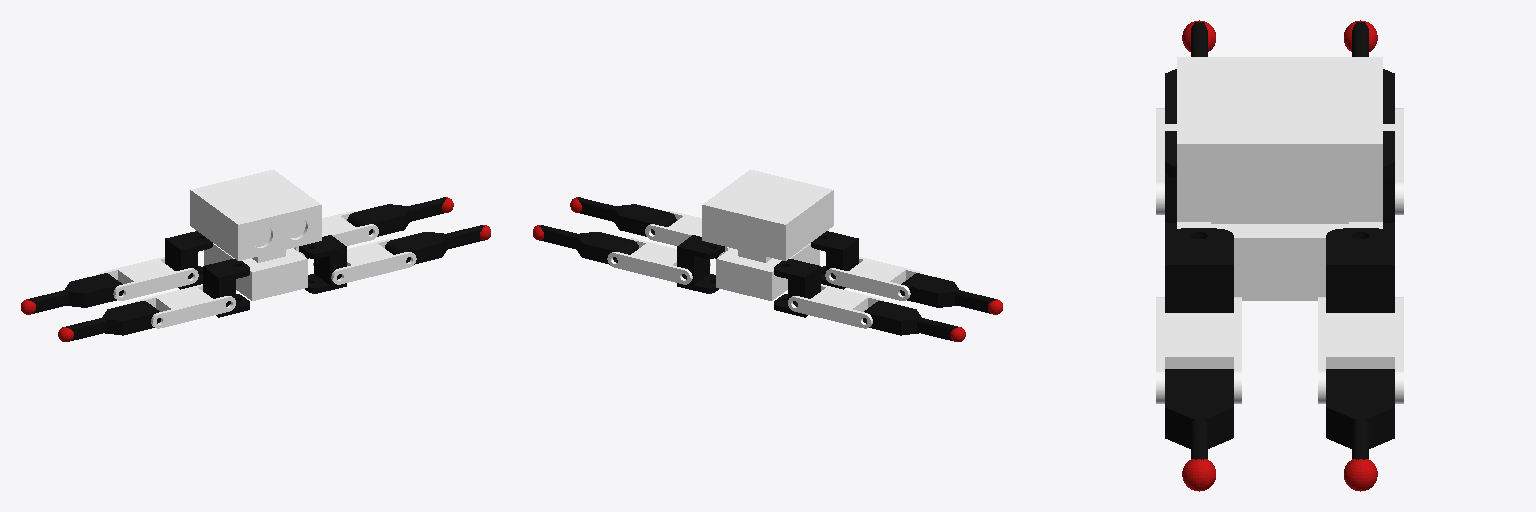
robot.urdf — quadruped_spider:
<?xml version="1.0"?>
<robot name="quadruped_spider">

  <!-- Material Definitions -->
  <material name="white">
    <color rgba="1.0 1.0 1.0 1.0"/>
  </material>
  <material name="black">
    <color rgba="0.1 0.1 0.1 1.0"/>
  </material>
  <material name="dark_gray">
    <color rgba="0.2 0.2 0.2 1.0"/>
  </material>
  <material name="blue">
    <color rgba="0.1 0.4 0.8 1.0"/>
  </material>
  <material name="orange">
    <color rgba="0.9 0.4 0.1 1.0"/>
  </material>
  <material name="red">
    <color rgba="0.8 0.1 0.1 1.0"/>
  </material>

  <!-- Main Body (Trunk) - Mesh dari FreeCAD (main_body.stl) -->
  <link name="main_body">
    <inertial>
      <origin xyz="0 0 0" rpy="0 0 0"/>
      <mass value="1.4"/>
      <inertia ixx="0.0058" ixy="0" ixz="0" iyy="0.0058" iyz="0" izz="0.0093"/>
    </inertial>
    <visual>
      <origin xyz="0 0 0" rpy="0 0 0"/>
      <geometry>
        <mesh filename="meshes/main_body.stl" scale="0.001 0.001 0.001"/>
      </geometry>
      <material name="white"/>
    </visual>
    <collision>
      <origin xyz="0 0 0" rpy="0 0 0"/>
      <geometry>
        <mesh filename="meshes/main_body.stl" scale="0.001 0.001 0.001"/>
      </geometry>
    </collision>
  </link>

  <!-- Leg 1: Front-Left (fl) -->
  <link name="fl_coxa">
    <inertial><origin xyz="0.0137 0 -0.005" rpy="0 0 0"/><mass value="0.1"/><inertia ixx="0.000003" ixy="0" ixz="0" iyy="0.000006" iyz="0" izz="0.000006"/></inertial>
    <visual><origin xyz="0.0 0 0" rpy="0 0 0"/><geometry><mesh filename="meshes/coxa.stl" scale="0.001 0.001 0.001"/></geometry><material name="black"/></visual>
    <collision><origin xyz="0.0 0 0" rpy="0 0 0"/><geometry><mesh filename="meshes/coxa.stl" scale="0.001 0.001 0.001"/></geometry></collision>
  </link>
  <joint name="fl_coxa_joint" type="revolute">
    <parent link="main_body"/>
    <child link="fl_coxa"/>
    <!-- Titik Coxa Leg 1: Depan Kiri (+X, -Y) -->
    <origin xyz="0.0525 -0.047 0.020" rpy="0 0 0"/>
    <axis xyz="0 0 1"/>
    <limit lower="-1.0" upper="1.0" effort="5.0" velocity="5.0"/>
    <dynamics damping="0.05" friction="0.01"/>
  </joint>

  <link name="fl_femur">
    <inertial><origin xyz="0.05 0 0" rpy="0 0 0"/><mass value="0.15"/><inertia ixx="0.00001" ixy="0" ixz="0" iyy="0.000125" iyz="0" izz="0.000125"/></inertial>
    <visual><origin xyz="0 0 0" rpy="0 0 0"/><geometry><mesh filename="meshes/femur.stl" scale="0.001 0.001 0.001"/></geometry><material name="white"/></visual>
    <collision><origin xyz="0 0 0" rpy="0 0 0"/><geometry><mesh filename="meshes/femur.stl" scale="0.001 0.001 0.001"/></geometry></collision>
  </link>
  <joint name="fl_femur_joint" type="revolute">
    <parent link="fl_coxa"/>
    <child link="fl_femur"/>
    <origin xyz="0.0275 0 -0.01" rpy="0 0 0"/>
    <axis xyz="0 1 0"/>
    <limit lower="-1.2" upper="1.2" effort="6.0" velocity="5.0"/>
    <dynamics damping="0.05" friction="0.01"/>
  </joint>

  <link name="fl_tibia">
    <inertial><origin xyz="0.06 0 0" rpy="0 0 0"/><mass value="0.1"/><inertia ixx="0.000005" ixy="0" ixz="0" iyy="0.000122" iyz="0" izz="0.000122"/></inertial>
    <visual><origin xyz="0 0 0" rpy="0 0 0"/><geometry><mesh filename="meshes/tibia.stl" scale="0.001 0.001 0.001"/></geometry><material name="black"/></visual>
    <collision><origin xyz="0 0 0" rpy="0 0 0"/><geometry><mesh filename="meshes/tibia.stl" scale="0.001 0.001 0.001"/></geometry></collision>
  </link>
  <joint name="fl_tibia_joint" type="revolute">
    <parent link="fl_femur"/>
    <child link="fl_tibia"/>
    <origin xyz="0.10 0 0.0" rpy="0 0 0"/>
    <axis xyz="0 1 0"/>
    <limit lower="-3.0" upper="3.0" effort="6.0" velocity="5.0"/>
    <dynamics damping="0.05" friction="0.01"/>
  </joint>

  <link name="fl_foot">
    <inertial><mass value="0.02"/><inertia ixx="0.00001" ixy="0" ixz="0" iyy="0.00001" iyz="0" izz="0.00001"/></inertial>
    <visual><geometry><sphere radius="0.01"/></geometry><material name="red"/></visual>
    <collision><geometry><sphere radius="0.01"/></geometry></collision>
  </link>
  <joint name="fl_foot_joint" type="fixed">
    <parent link="fl_tibia"/>
    <child link="fl_foot"/>
    <origin xyz="0.121 0 0.0" rpy="0 0 0"/>
  </joint>

  <!-- Leg 2: Rear-Left (rl) -->
  <link name="rl_coxa">
    <inertial><origin xyz="0.0137 0 -0.005" rpy="0 0 0"/><mass value="0.1"/><inertia ixx="0.000003" ixy="0" ixz="0" iyy="0.000006" iyz="0" izz="0.000006"/></inertial>
    <visual><origin xyz="0.0 0 0" rpy="0 0 0"/><geometry><mesh filename="meshes/coxa.stl" scale="0.001 0.001 0.001"/></geometry><material name="black"/></visual>
    <collision><origin xyz="0.0 0 0" rpy="0 0 0"/><geometry><mesh filename="meshes/coxa.stl" scale="0.001 0.001 0.001"/></geometry></collision>
  </link>
  <joint name="rl_coxa_joint" type="revolute">
    <parent link="main_body"/>
    <child link="rl_coxa"/>
    <!-- Titik Coxa Leg 2: Belakang Kiri (+X, +Y) -->
    <origin xyz="0.0525 0.047 0.020" rpy="0 0 0"/>
    <axis xyz="0 0 1"/>
    <limit lower="-1.0" upper="1.0" effort="5.0" velocity="5.0"/>
    <dynamics damping="0.05" friction="0.01"/>
  </joint>

  <link name="rl_femur">
    <inertial><origin xyz="0.05 0 0" rpy="0 0 0"/><mass value="0.15"/><inertia ixx="0.00001" ixy="0" ixz="0" iyy="0.000125" iyz="0" izz="0.000125"/></inertial>
    <visual><origin xyz="0 0 0" rpy="0 0 0"/><geometry><mesh filename="meshes/femur.stl" scale="0.001 0.001 0.001"/></geometry><material name="white"/></visual>
    <collision><origin xyz="0 0 0" rpy="0 0 0"/><geometry><mesh filename="meshes/femur.stl" scale="0.001 0.001 0.001"/></geometry></collision>
  </link>
  <joint name="rl_femur_joint" type="revolute">
    <parent link="rl_coxa"/>
    <child link="rl_femur"/>
    <origin xyz="0.0275 0 -0.01" rpy="0 0 0"/>
    <axis xyz="0 1 0"/>
    <limit lower="-1.2" upper="1.2" effort="6.0" velocity="5.0"/>
    <dynamics damping="0.05" friction="0.01"/>
  </joint>

  <link name="rl_tibia">
    <inertial><origin xyz="0.06 0 0" rpy="0 0 0"/><mass value="0.1"/><inertia ixx="0.000005" ixy="0" ixz="0" iyy="0.000122" iyz="0" izz="0.000122"/></inertial>
    <visual><origin xyz="0 0 0" rpy="0 0 0"/><geometry><mesh filename="meshes/tibia.stl" scale="0.001 0.001 0.001"/></geometry><material name="black"/></visual>
    <collision><origin xyz="0 0 0" rpy="0 0 0"/><geometry><mesh filename="meshes/tibia.stl" scale="0.001 0.001 0.001"/></geometry></collision>
  </link>
  <joint name="rl_tibia_joint" type="revolute">
    <parent link="rl_femur"/>
    <child link="rl_tibia"/>
    <origin xyz="0.10 0 0.0" rpy="0 0 0"/>
    <axis xyz="0 1 0"/>
    <limit lower="-3.0" upper="3.0" effort="6.0" velocity="5.0"/>
    <dynamics damping="0.05" friction="0.01"/>
  </joint>

  <link name="rl_foot">
    <inertial><mass value="0.02"/><inertia ixx="0.00001" ixy="0" ixz="0" iyy="0.00001" iyz="0" izz="0.00001"/></inertial>
    <visual><geometry><sphere radius="0.01"/></geometry><material name="red"/></visual>
    <collision><geometry><sphere radius="0.01"/></geometry></collision>
  </link>
  <joint name="rl_foot_joint" type="fixed">
    <parent link="rl_tibia"/>
    <child link="rl_foot"/>
    <origin xyz="0.121 0 0.0" rpy="0 0 0"/>
  </joint>

  <!-- Leg 3: Front-Right (fr) -->
  <link name="fr_coxa">
    <inertial><origin xyz="0.0137 0 -0.005" rpy="0 0 0"/><mass value="0.1"/><inertia ixx="0.000003" ixy="0" ixz="0" iyy="0.000006" iyz="0" izz="0.000006"/></inertial>
    <visual><origin xyz="0.0 0 0" rpy="0 0 0"/><geometry><mesh filename="meshes/coxa.stl" scale="0.001 0.001 0.001"/></geometry><material name="black"/></visual>
    <collision><origin xyz="0.0 0 0" rpy="0 0 0"/><geometry><mesh filename="meshes/coxa.stl" scale="0.001 0.001 0.001"/></geometry></collision>
  </link>
  <joint name="fr_coxa_joint" type="revolute">
    <parent link="main_body"/>
    <child link="fr_coxa"/>
    <!-- Titik Coxa Leg 3: Depan Kanan (-X, -Y) -->
    <origin xyz="-0.0525 -0.047 0.020" rpy="0 0 3.14159"/>
    <axis xyz="0 0 1"/>
    <limit lower="-1.0" upper="1.0" effort="5.0" velocity="5.0"/>
    <dynamics damping="0.05" friction="0.01"/>
  </joint>

  <link name="fr_femur">
    <inertial><origin xyz="0.05 0 0" rpy="0 0 0"/><mass value="0.15"/><inertia ixx="0.00001" ixy="0" ixz="0" iyy="0.000125" iyz="0" izz="0.000125"/></inertial>
    <visual><origin xyz="0 0 0" rpy="0 0 0"/><geometry><mesh filename="meshes/femur.stl" scale="0.001 0.001 0.001"/></geometry><material name="white"/></visual>
    <collision><origin xyz="0 0 0" rpy="0 0 0"/><geometry><mesh filename="meshes/femur.stl" scale="0.001 0.001 0.001"/></geometry></collision>
  </link>
  <joint name="fr_femur_joint" type="revolute">
    <parent link="fr_coxa"/>
    <child link="fr_femur"/>
    <origin xyz="0.0275 0 -0.01" rpy="0 0 0"/>
    <axis xyz="0 1 0"/>
    <limit lower="-1.2" upper="1.2" effort="6.0" velocity="5.0"/>
    <dynamics damping="0.05" friction="0.01"/>
  </joint>

  <link name="fr_tibia">
    <inertial><origin xyz="0.06 0 0" rpy="0 0 0"/><mass value="0.1"/><inertia ixx="0.000005" ixy="0" ixz="0" iyy="0.000122" iyz="0" izz="0.000122"/></inertial>
    <visual><origin xyz="0 0 0" rpy="0 0 0"/><geometry><mesh filename="meshes/tibia.stl" scale="0.001 0.001 0.001"/></geometry><material name="black"/></visual>
    <collision><origin xyz="0 0 0" rpy="0 0 0"/><geometry><mesh filename="meshes/tibia.stl" scale="0.001 0.001 0.001"/></geometry></collision>
  </link>
  <joint name="fr_tibia_joint" type="revolute">
    <parent link="fr_femur"/>
    <child link="fr_tibia"/>
    <origin xyz="0.10 0 0.0" rpy="0 0 0"/>
    <axis xyz="0 1 0"/>
    <limit lower="-3.14159" upper="3.14159" effort="6.0" velocity="5.0"/>
    <dynamics damping="0.05" friction="0.01"/>
  </joint>

  <link name="fr_foot">
    <inertial><mass value="0.02"/><inertia ixx="0.00001" ixy="0" ixz="0" iyy="0.00001" iyz="0" izz="0.00001"/></inertial>
    <visual><geometry><sphere radius="0.01"/></geometry><material name="red"/></visual>
    <collision><geometry><sphere radius="0.01"/></geometry></collision>
  </link>
  <joint name="fr_foot_joint" type="fixed">
    <parent link="fr_tibia"/>
    <child link="fr_foot"/>
    <origin xyz="0.121 0 0.0" rpy="0 0 0"/>
  </joint>

  <!-- Leg 4: Rear-Right (rr) -->
  <link name="rr_coxa">
    <inertial><origin xyz="0.0137 0 -0.005" rpy="0 0 0"/><mass value="0.1"/><inertia ixx="0.000003" ixy="0" ixz="0" iyy="0.000006" iyz="0" izz="0.000006"/></inertial>
    <visual><origin xyz="0.0 0 0" rpy="0 0 0"/><geometry><mesh filename="meshes/coxa.stl" scale="0.001 0.001 0.001"/></geometry><material name="black"/></visual>
    <collision><origin xyz="0.0 0 0" rpy="0 0 0"/><geometry><mesh filename="meshes/coxa.stl" scale="0.001 0.001 0.001"/></geometry></collision>
  </link>
  <joint name="rr_coxa_joint" type="revolute">
    <parent link="main_body"/>
    <child link="rr_coxa"/>
    <!-- Titik Coxa Leg 4: Belakang Kanan (-X, +Y) -->
    <origin xyz="-0.0525 0.047 0.020" rpy="0 0 3.14159"/>
    <axis xyz="0 0 1"/>
    <limit lower="-1.0" upper="1.0" effort="5.0" velocity="5.0"/>
    <dynamics damping="0.05" friction="0.01"/>
  </joint>

  <link name="rr_femur">
    <inertial><origin xyz="0.05 0 0" rpy="0 0 0"/><mass value="0.15"/><inertia ixx="0.00001" ixy="0" ixz="0" iyy="0.000125" iyz="0" izz="0.000125"/></inertial>
    <visual><origin xyz="0 0 0" rpy="0 0 0"/><geometry><mesh filename="meshes/femur.stl" scale="0.001 0.001 0.001"/></geometry><material name="white"/></visual>
    <collision><origin xyz="0 0 0" rpy="0 0 0"/><geometry><mesh filename="meshes/femur.stl" scale="0.001 0.001 0.001"/></geometry></collision>
  </link>
  <joint name="rr_femur_joint" type="revolute">
    <parent link="rr_coxa"/>
    <child link="rr_femur"/>
    <origin xyz="0.0275 0 -0.01" rpy="0 0 0"/>
    <axis xyz="0 1 0"/>
    <limit lower="-1.2" upper="1.2" effort="6.0" velocity="5.0"/>
    <dynamics damping="0.05" friction="0.01"/>
  </joint>

  <link name="rr_tibia">
    <inertial><origin xyz="0.06 0 0" rpy="0 0 0"/><mass value="0.1"/><inertia ixx="0.000005" ixy="0" ixz="0" iyy="0.000122" iyz="0" izz="0.000122"/></inertial>
    <visual><origin xyz="0 0 0" rpy="0 0 0"/><geometry><mesh filename="meshes/tibia.stl" scale="0.001 0.001 0.001"/></geometry><material name="black"/></visual>
    <collision><origin xyz="0 0 0" rpy="0 0 0"/><geometry><mesh filename="meshes/tibia.stl" scale="0.001 0.001 0.001"/></geometry></collision>
  </link>
  <joint name="rr_tibia_joint" type="revolute">
    <parent link="rr_femur"/>
    <child link="rr_tibia"/>
    <origin xyz="0.10 0 0.0" rpy="0 0 0"/>
    <axis xyz="0 1 0"/>
    <limit lower="-3.0" upper="3.0" effort="6.0" velocity="5.0"/>
    <dynamics damping="0.05" friction="0.01"/>
  </joint>

  <link name="rr_foot">
    <inertial><mass value="0.02"/><inertia ixx="0.00001" ixy="0" ixz="0" iyy="0.00001" iyz="0" izz="0.00001"/></inertial>
    <visual><geometry><sphere radius="0.01"/></geometry><material name="red"/></visual>
    <collision><geometry><sphere radius="0.01"/></geometry></collision>
  </link>
  <joint name="rr_foot_joint" type="fixed">
    <parent link="rr_tibia"/>
    <child link="rr_foot"/>
    <origin xyz="0.121 0 0.0" rpy="0 0 0"/>
  </joint>

</robot>

--- What the picture shows (computed from the rendered views, not written in the file) ---
The picture shows the robot from 3 angles, left to right: view 1: azimuth 30°, elevation 25°; view 2: azimuth 150°, elevation 25°; view 3: azimuth 270°, elevation 25°; orthographic projection.
Model quadruped_spider with 17 links and 16 joints (12 revolute, 4 fixed), rooted at main_body, posed all joints at 0.
Visible links, largest first — view 1: main_body, fr_femur, rr_femur, fl_femur, rr_tibia, fr_tibia, fl_tibia, rl_tibia, fl_coxa, fr_coxa, rr_coxa, rl_femur; view 2: main_body, rr_femur, fr_femur, rl_femur, fr_tibia, rr_tibia, rl_tibia, fl_tibia, rl_coxa, rr_coxa, fr_coxa, fl_femur; view 3: main_body, fl_coxa, rl_coxa, fl_femur, rl_femur, fl_tibia, rl_tibia, fr_tibia, rr_tibia, fr_coxa, rr_coxa, fr_femur (+3 smaller).
Link boxes in pixels (bbox=[...]): main_body: bbox=[190, 170, 321, 300]; fr_femur: bbox=[136, 284, 235, 328]; rr_femur: bbox=[98, 257, 198, 300]; fl_femur: bbox=[313, 238, 416, 284]; rr_tibia: bbox=[27, 273, 123, 313]; fr_tibia: bbox=[66, 301, 160, 340]; fl_tibia: bbox=[385, 225, 484, 264]; rl_tibia: bbox=[347, 197, 446, 236]; fl_coxa: bbox=[299, 235, 346, 293]; fr_coxa: bbox=[203, 259, 249, 317]; rr_coxa: bbox=[165, 231, 212, 289]; rl_femur: bbox=[294, 211, 378, 255]; main_body: bbox=[702, 170, 833, 300]; rr_femur: bbox=[788, 284, 887, 328]; fr_femur: bbox=[825, 257, 925, 300]; rl_femur: bbox=[607, 238, 710, 284]; fr_tibia: bbox=[900, 273, 996, 313]; rr_tibia: bbox=[863, 301, 957, 340]; rl_tibia: bbox=[539, 225, 638, 264]; fl_tibia: bbox=[577, 197, 676, 236]; rl_coxa: bbox=[677, 235, 724, 293]; rr_coxa: bbox=[774, 259, 820, 317]; fr_coxa: bbox=[811, 231, 858, 289]; fl_femur: bbox=[645, 211, 729, 255]; main_body: bbox=[1177, 57, 1382, 300]; fl_coxa: bbox=[1165, 228, 1233, 312]; rl_coxa: bbox=[1326, 228, 1394, 312]; fl_femur: bbox=[1156, 297, 1241, 403]; rl_femur: bbox=[1318, 297, 1403, 403]; fl_tibia: bbox=[1165, 369, 1233, 459]; rl_tibia: bbox=[1326, 369, 1394, 459]; fr_tibia: bbox=[1165, 22, 1207, 123]; rr_tibia: bbox=[1352, 22, 1394, 123]; fr_coxa: bbox=[1165, 131, 1176, 233]; rr_coxa: bbox=[1383, 131, 1394, 233]; fr_femur: bbox=[1156, 108, 1176, 214].
Bounding box of the posed robot: 0.622 × 0.144 × 0.1175 m (x, y, z).
13 mesh visuals loaded from 4 distinct referenced files (4 binary STL).
